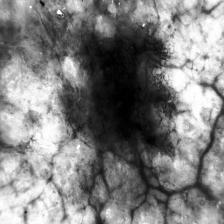Benign Marking or Mole: (92, 45, 160, 133)
